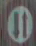Two way: (4, 1, 35, 44)
